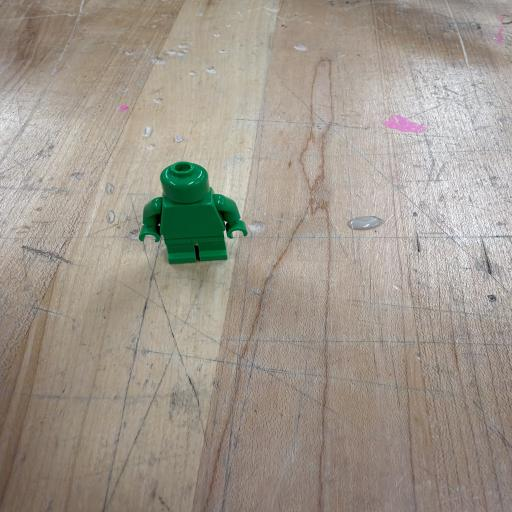Green-Lego: (139, 161, 247, 264)
